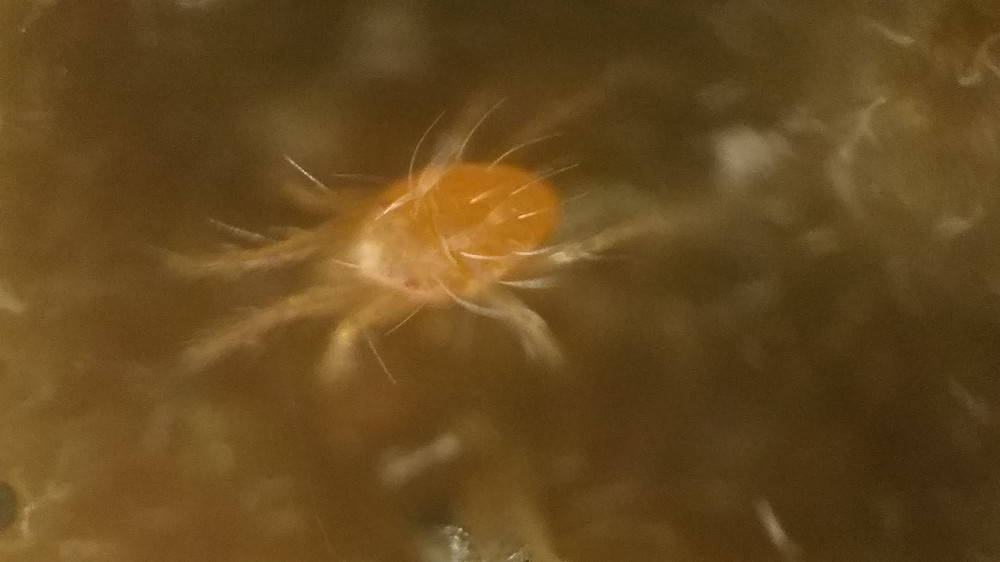Aracnido Rojo: (168, 86, 674, 414)
